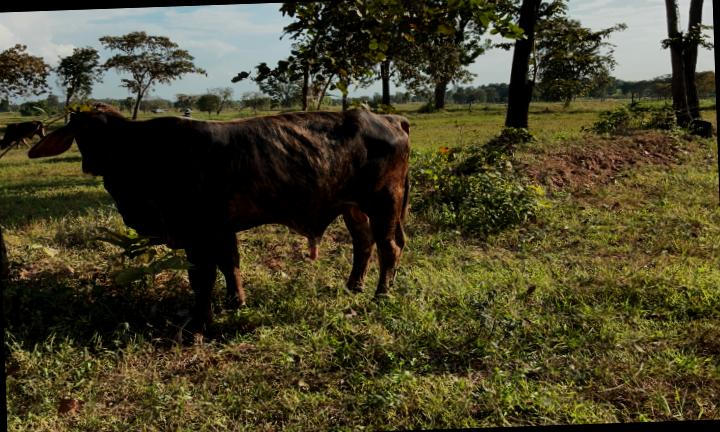Charolais: (30, 103, 410, 329)
